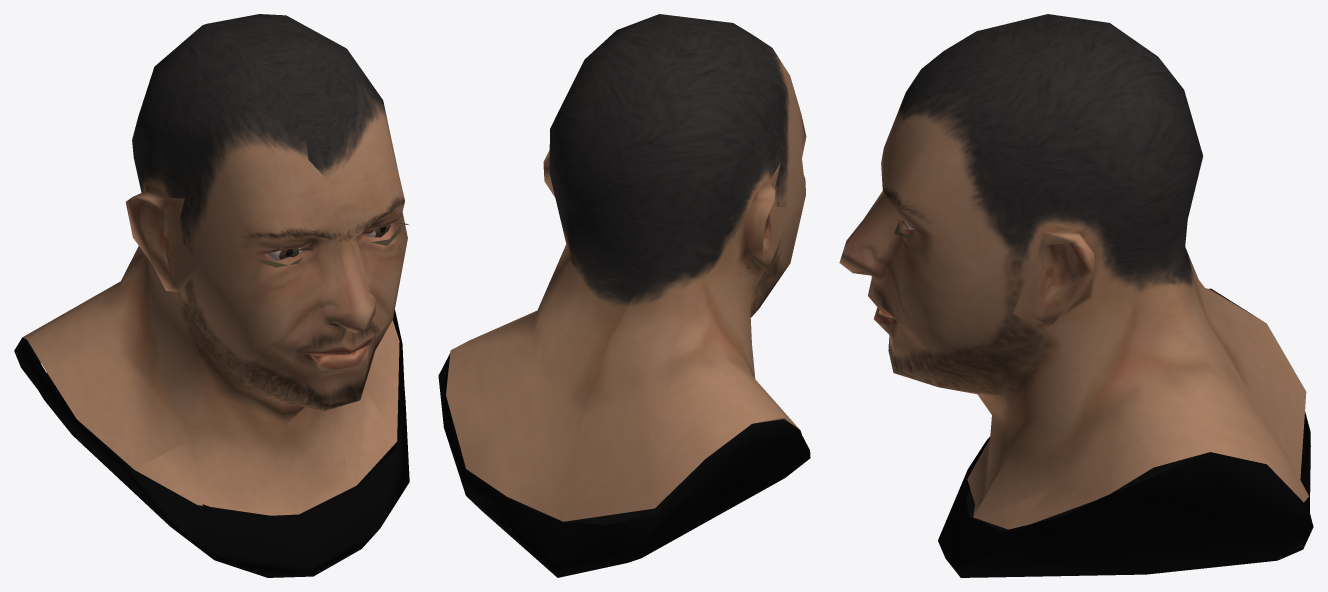
Rendered from decimated-10_Head.fbx.
3 views of the same model, side by side, from view 1: azimuth 30°, elevation 25°; view 2: azimuth 150°, elevation 25°; view 3: azimuth 270°, elevation 25° (orthographic). The views are drawn at different scales.
Visible parts, largest first — view 1: Mesh; view 2: Mesh; view 3: Mesh.
Part boxes in pixels (bbox=[...]): Mesh: bbox=[14, 14, 409, 577]; Mesh: bbox=[438, 14, 810, 577]; Mesh: bbox=[839, 14, 1313, 577].
Bounding box in the file's own units: 2731 × 3815 × 3077.
